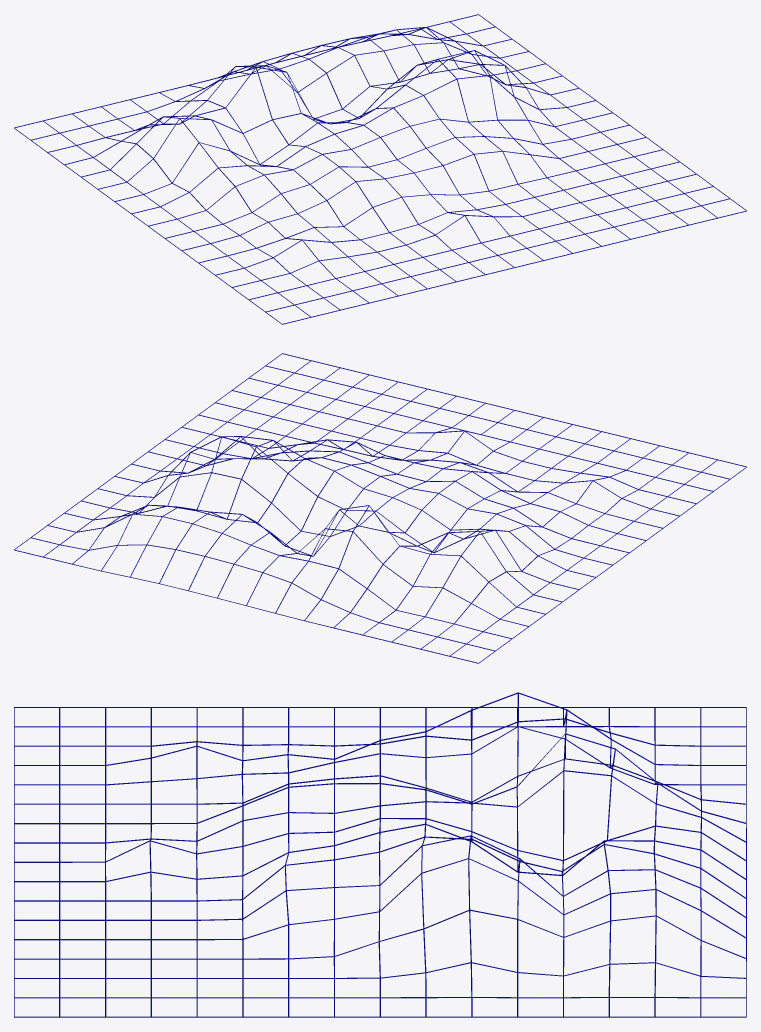
Rendered from mountains.obj.
3 views of the same model, one above another, from view 1: azimuth 30°, elevation 25°; view 2: azimuth 150°, elevation 25°; view 3: azimuth 270°, elevation 25° (orthographic). The views are drawn at different scales.
Visible parts, largest first — view 1: mountains_Plane.002; view 2: mountains_Plane.002; view 3: mountains_Plane.002.
Boxes of the visible parts, box(x1,y1,x2,y2) form: mountains_Plane.002: box(14, 14, 746, 324); mountains_Plane.002: box(14, 353, 746, 663); mountains_Plane.002: box(14, 692, 746, 1017).
Size of the model in its own units: 2 by 0.2767 by 2.
